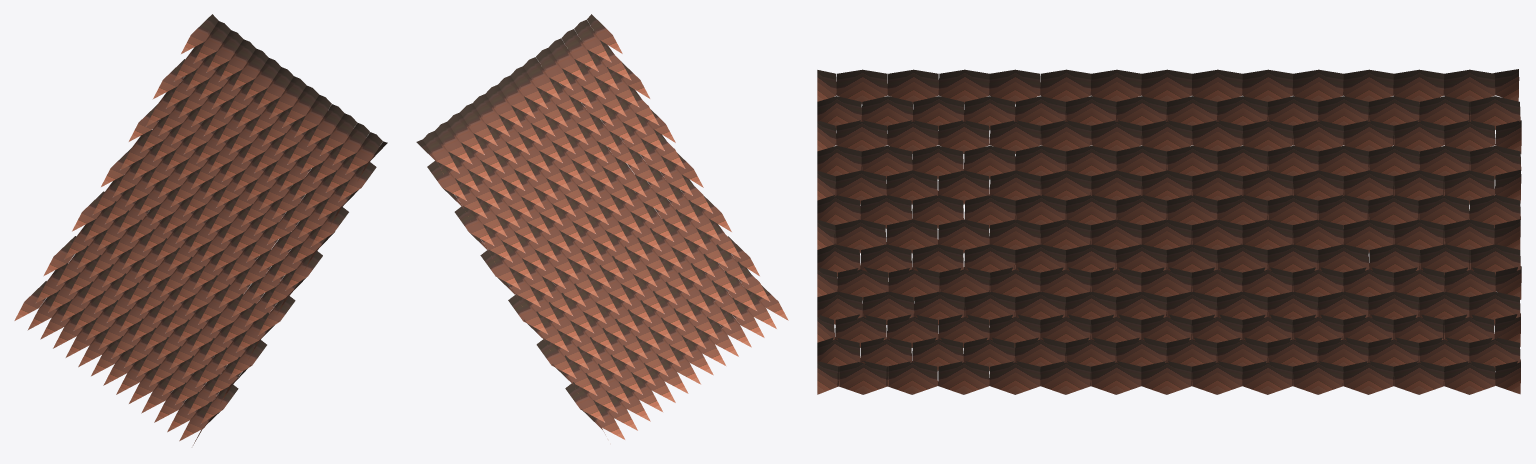
Rendered from Roof_LOD1.fbx.
3 views of the same model, side by side, from view 1: azimuth 30°, elevation 25°; view 2: azimuth 150°, elevation 25°; view 3: azimuth 270°, elevation 25° (orthographic). The views are drawn at different scales.
Parts seen in each view (by area): view 1: polySurface4808; view 2: polySurface4808; view 3: polySurface4808.
Boxes of the visible parts, bbox=[...] form: polySurface4808: bbox=[14, 14, 387, 445]; polySurface4808: bbox=[416, 14, 788, 439]; polySurface4808: bbox=[817, 69, 1521, 394].
Bounding box in the file's own units: 260 × 325 × 401.
